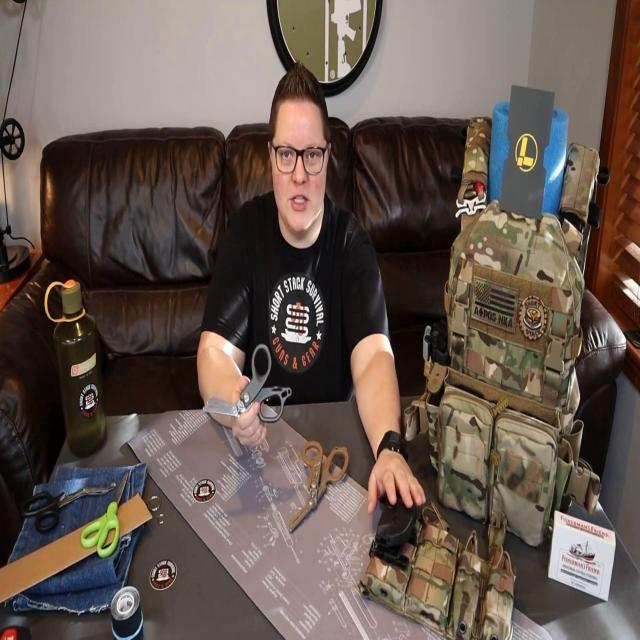scissor: (202, 343, 291, 423), (290, 442, 348, 535), (21, 483, 115, 532), (81, 470, 128, 558)
